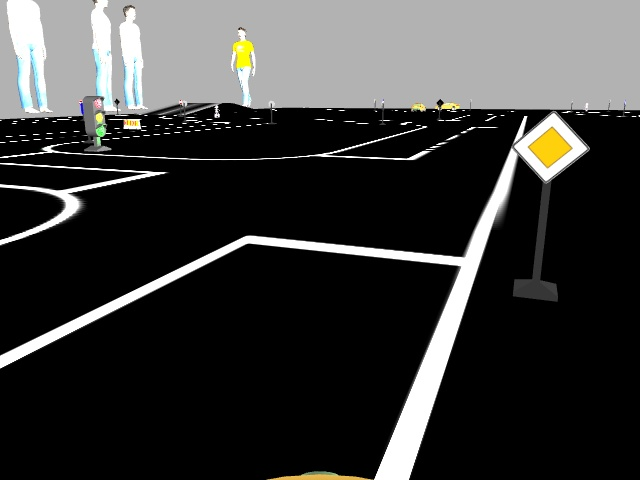ClosedRoadStand: (121, 119, 142, 129)
Priority: (517, 108, 579, 177)
TrafficLight: (80, 97, 104, 137)
